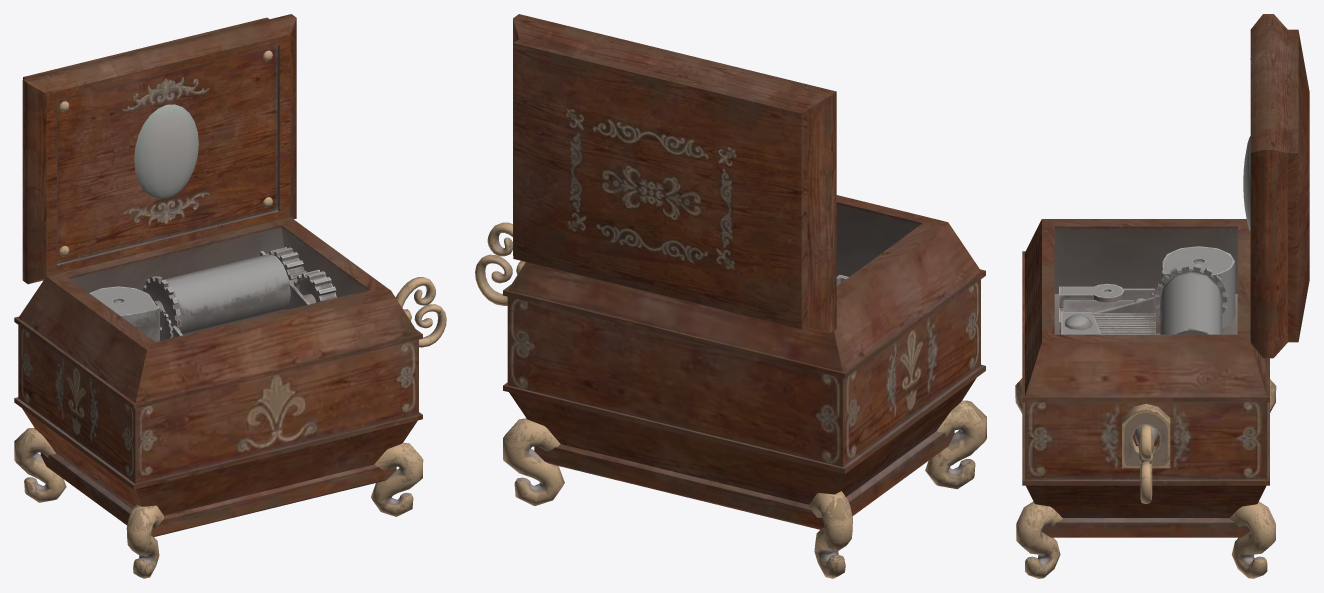
The model's file is musicBoxM.glb.
3 renders of one model, left to right at view 1: azimuth 30°, elevation 25°; view 2: azimuth 150°, elevation 25°; view 3: azimuth 270°, elevation 25°, orthographic. The views are drawn at different scales.
Parts seen in each view (by area): view 1: Base, Lid, pCylinder3, SpherPaint, Leg2, Leg4, pCylinder1, Leg3, Key, pGear3, pGear1, pGear4; view 2: Base, Lid, Leg1, Leg3, Leg4, Key; view 3: Base, Lid, pCylinder3, Leg1, Leg2, pCylinder1, Key_base, pCube1, pCube3, Key, pGear1, SpherPaint (+2 smaller).
Boxes of the visible parts, x1,y1,x2,y2 form: Base: (14,217,422,536); Lid: (22,14,296,284); pCylinder3: (162,254,290,335); SpherPaint: (134,104,198,199); Leg2: (371,442,423,516); Leg4: (14,428,66,502); pCylinder1: (89,286,159,341); Leg3: (126,504,163,578); Key: (395,277,446,347); pGear3: (293,269,336,303); pGear1: (142,276,181,337); pGear4: (266,247,306,284); Base: (503,195,985,529); Lid: (513,14,836,333); Leg1: (503,418,564,505); Leg3: (925,400,986,489); Leg4: (809,491,852,578); Key: (475,222,525,305); Base: (1022,219,1269,537); Lid: (1250,14,1309,358); pCylinder3: (1160,271,1222,334); Leg1: (1229,501,1275,578); Leg2: (1016,501,1062,578); pCylinder1: (1162,246,1235,327); Key_base: (1122,403,1170,468); pCube1: (1059,286,1155,334); pCube3: (1093,313,1155,334); Key: (1134,424,1158,503); pGear1: (1155,265,1227,313); SpherPaint: (1243,136,1250,230).
Bounding box in the file's own units: 0.0924 × 0.0985 × 0.0607.
Materials: 6 (6 with a texture image).
